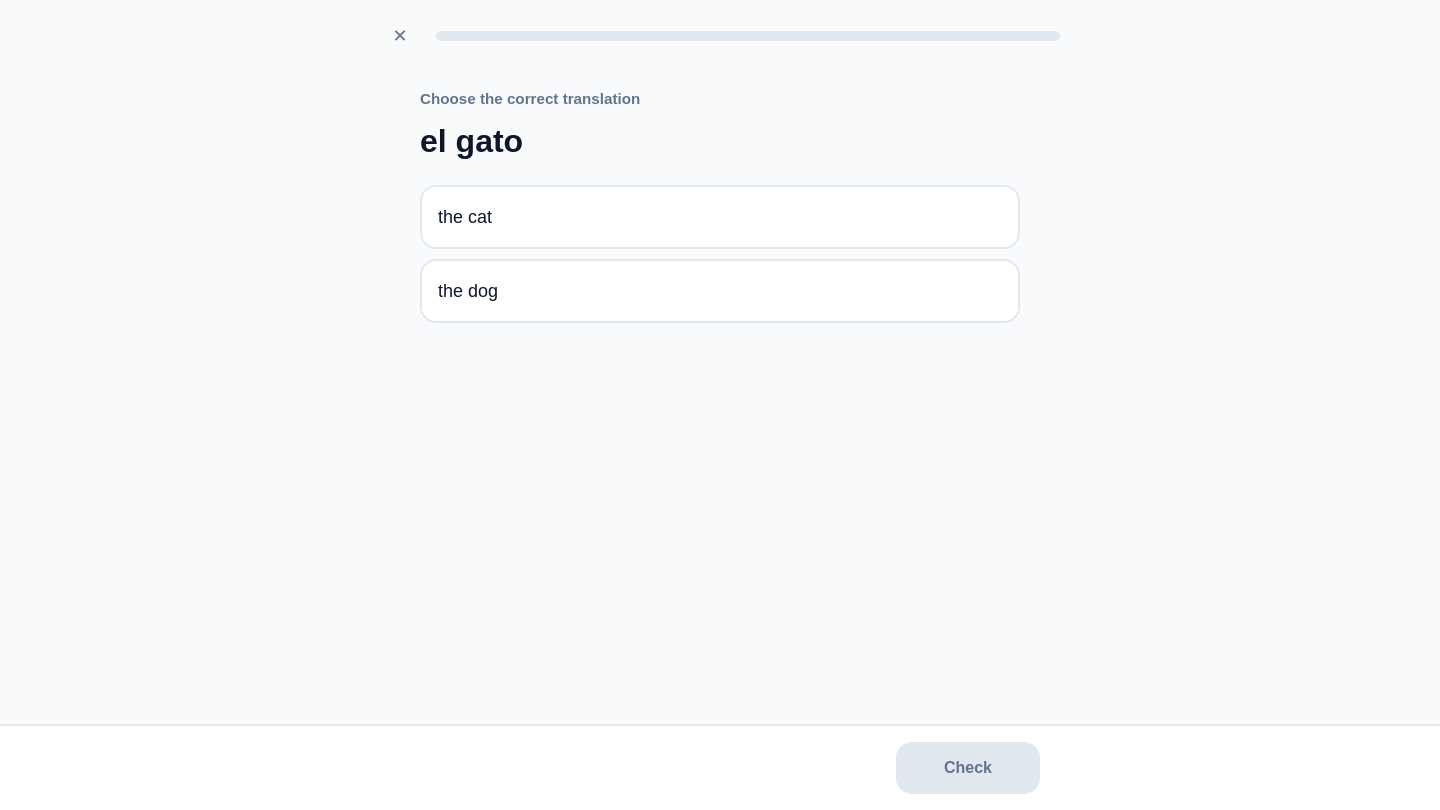
Test: lesson flow › brings a missed exercise back before finishing
Step 1. Click the radio button labelled "the dog" → click(468, 291), box 420,259 -> 1020,323
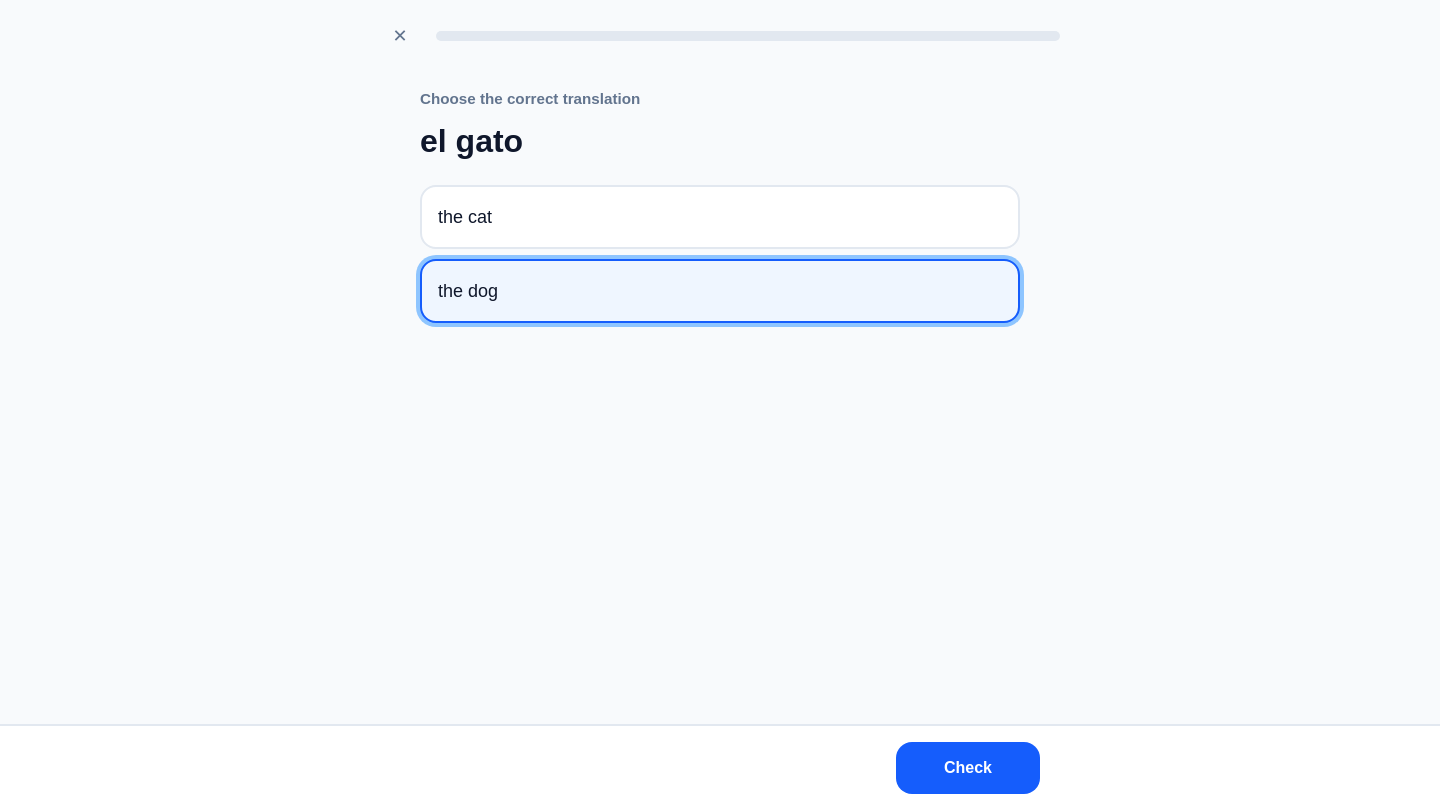
Step 2. Click the button "Check" → click(968, 768), box 896,742 -> 1040,794
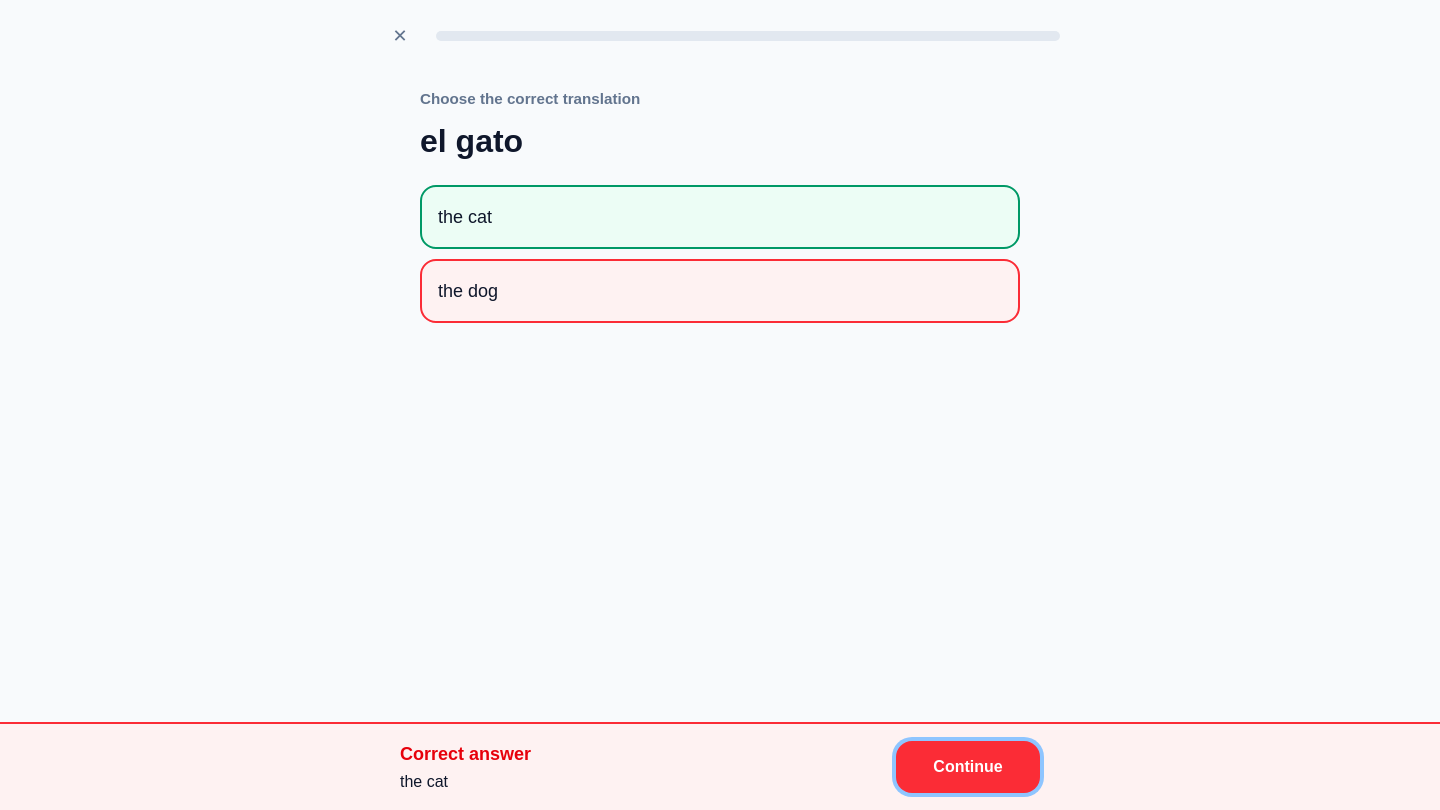
Step 3. Click the button "Continue" → click(968, 767), box 896,741 -> 1040,793
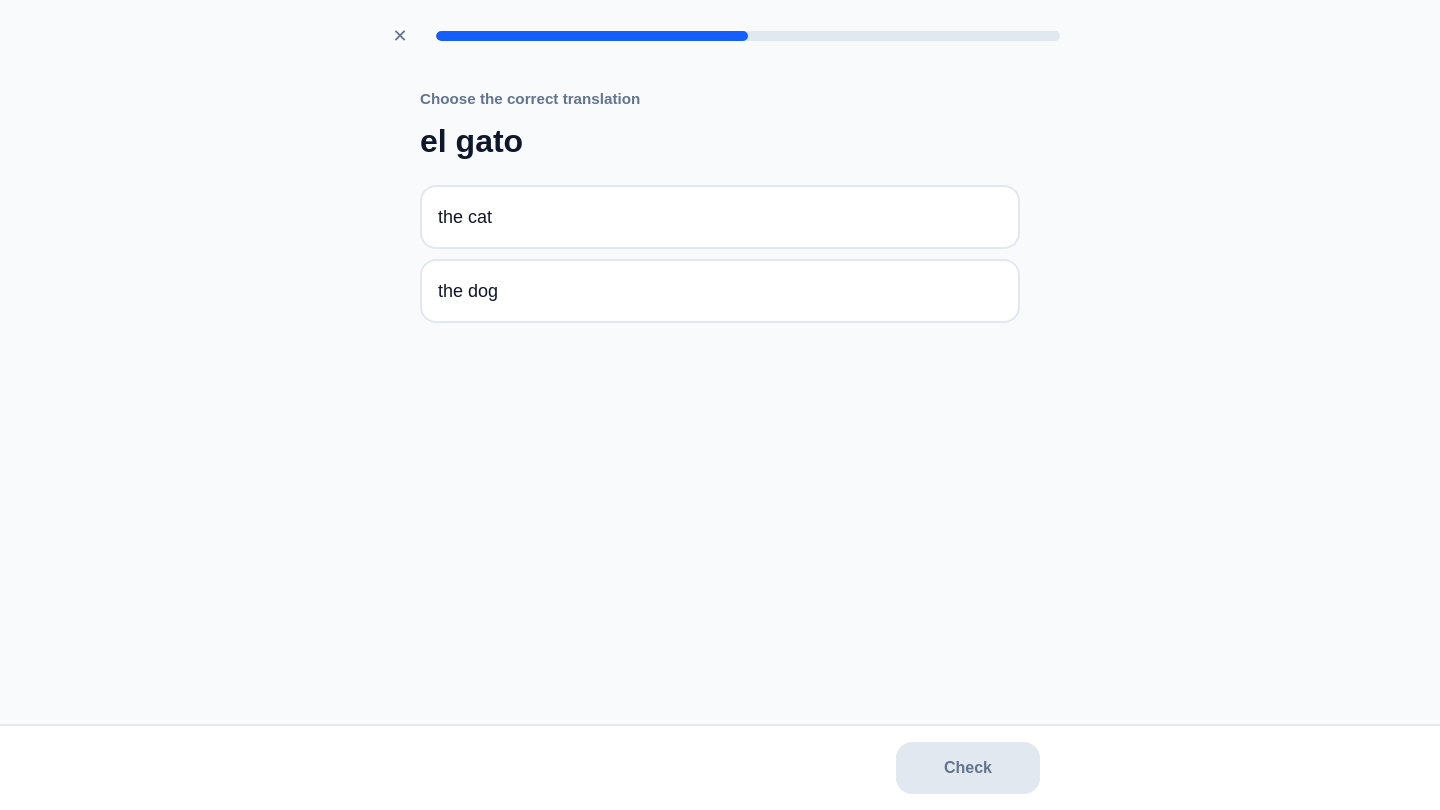
Expected: the radio button labelled "the cat" is enabled
Expected: the button "Check" is disabled, 896,742 -> 1040,794
Step 4. Click the radio button labelled "the cat" → click(465, 217), box 420,185 -> 1020,249
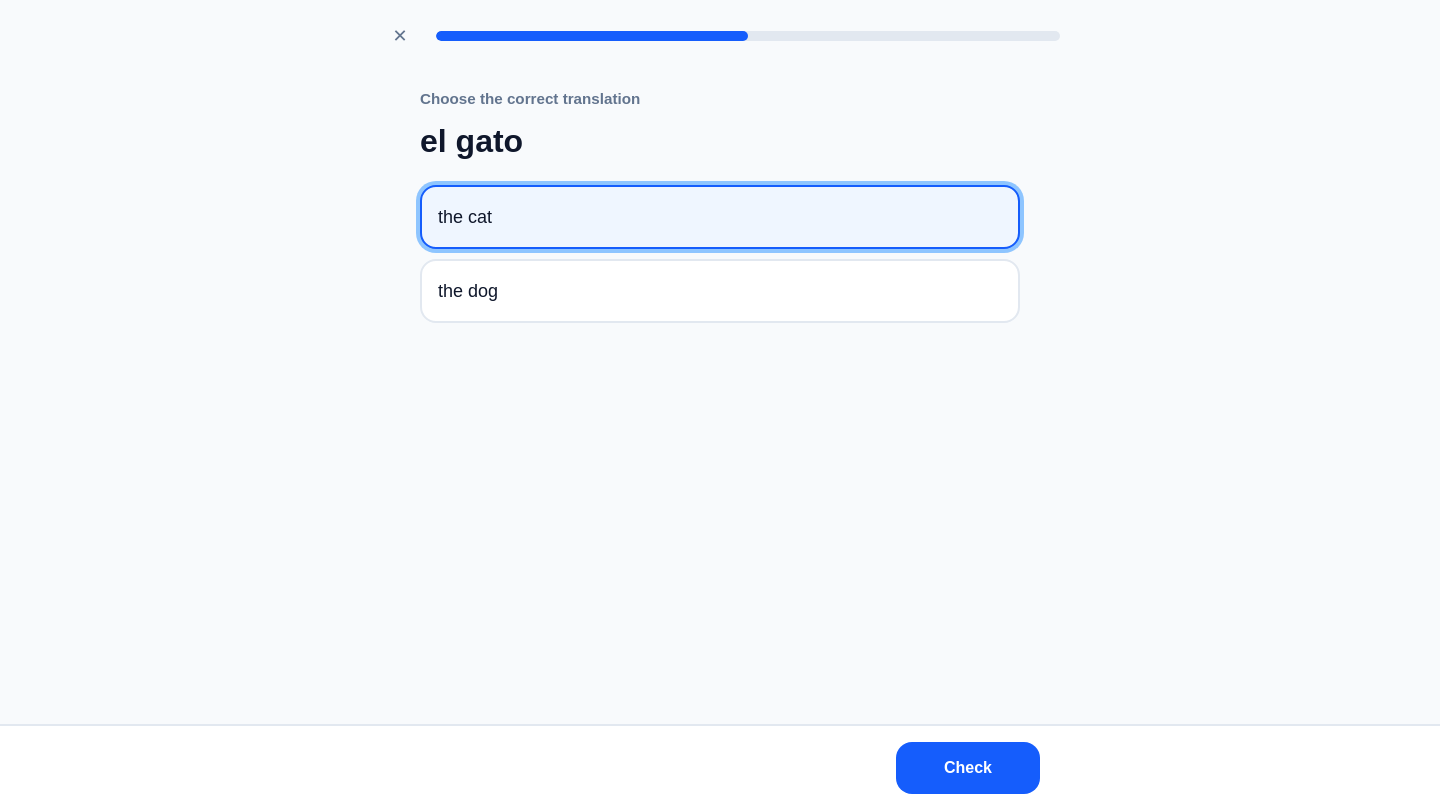
Step 5. Click the button "Check" → click(968, 768), box 896,742 -> 1040,794
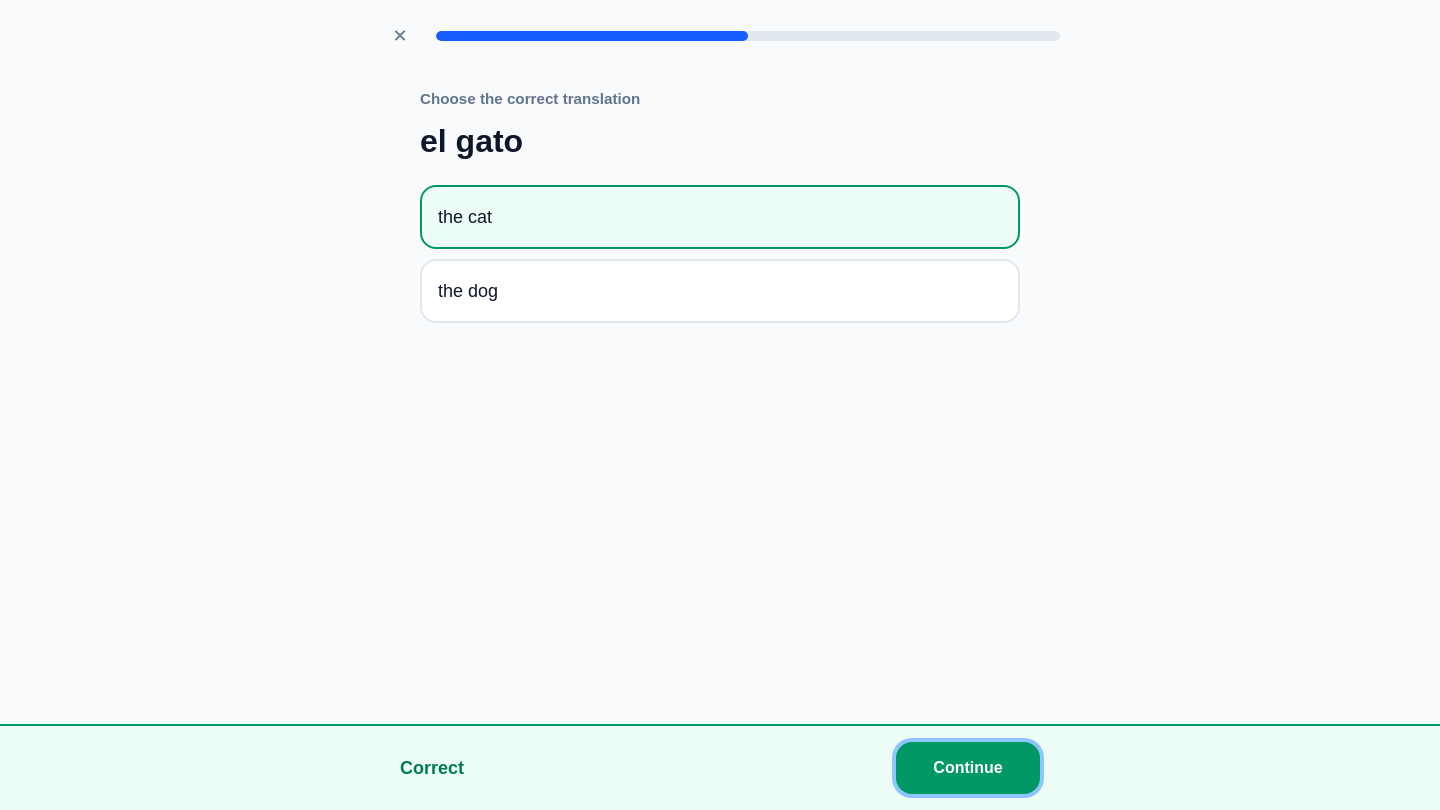
Step 6. Click the button "Continue" → click(968, 768), box 896,742 -> 1040,794
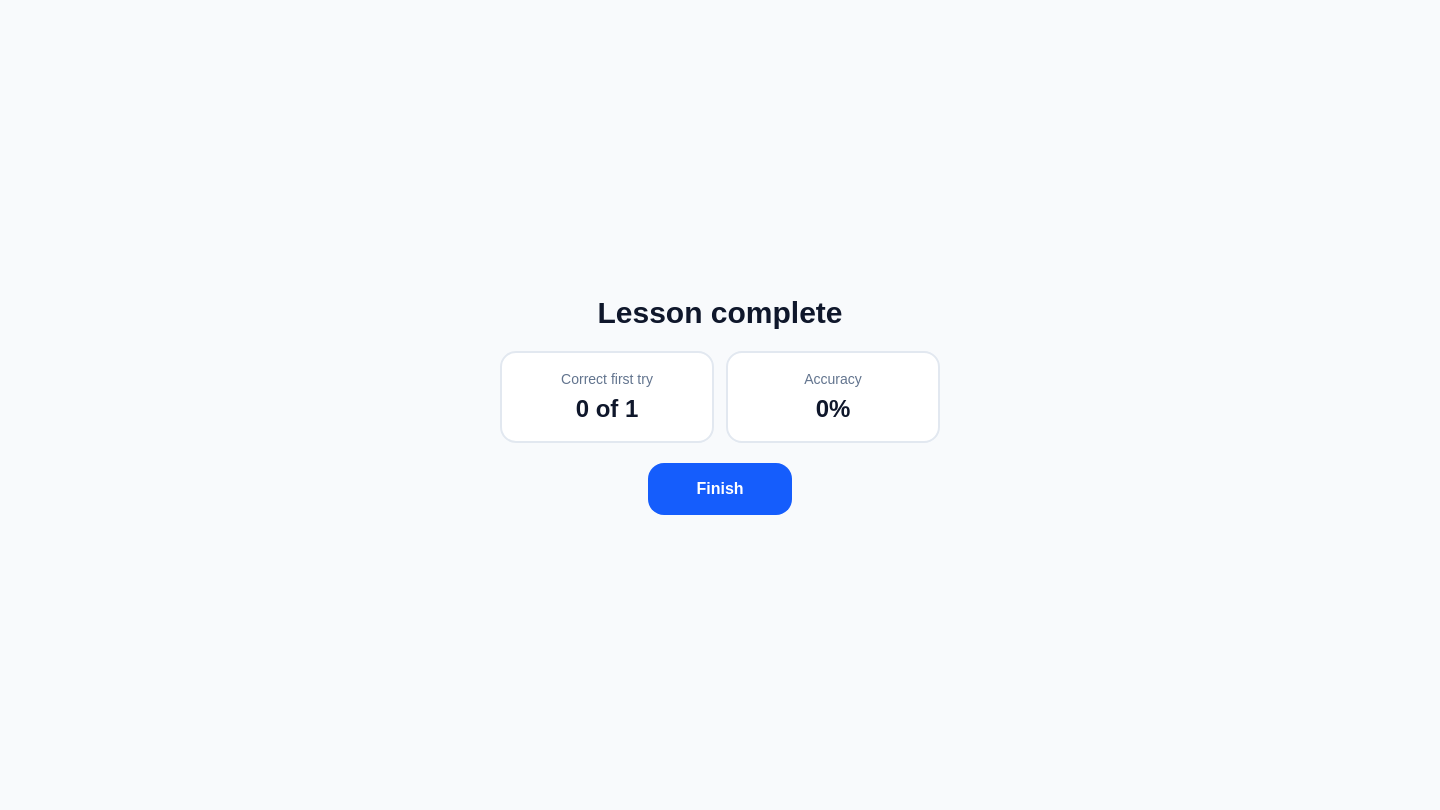
Expected: the heading "Lesson complete" is shown, 598,295 -> 843,331
Expected: the text "0 of 1" is shown, 576,395 -> 638,422
Expected: the text "0%" is shown, 816,395 -> 850,422
